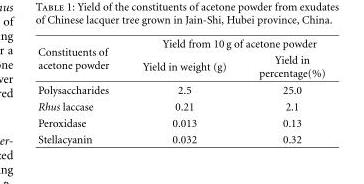table: (37, 37, 324, 145)
table column: (125, 37, 241, 145), (37, 37, 125, 145), (241, 37, 324, 145)
table column header: (37, 37, 324, 81)
table row: (37, 51, 324, 81), (37, 81, 324, 98), (37, 98, 324, 114), (37, 114, 324, 130), (37, 130, 324, 145), (37, 37, 324, 51)
table spanning cell: (37, 37, 125, 81), (125, 37, 324, 51)
